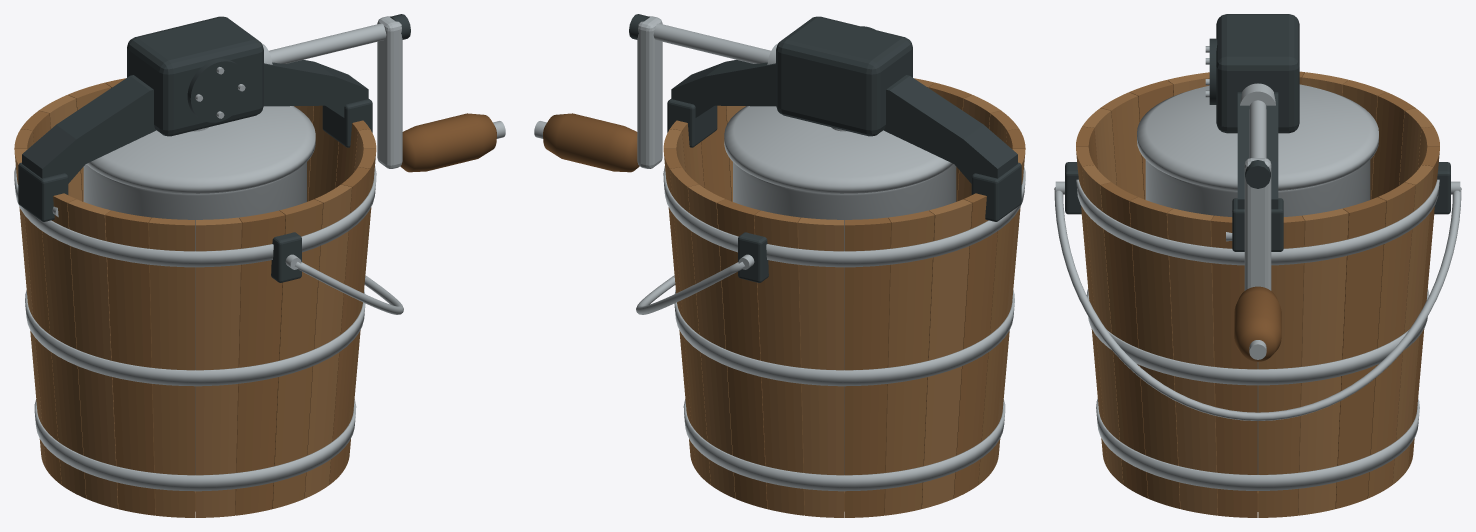
The picture shows the model from 3 angles, left to right: view 1: azimuth 30°, elevation 25°; view 2: azimuth 150°, elevation 25°; view 3: azimuth 270°, elevation 25°; orthographic projection.
Parts seen in each view (by area): view 1: Removable canister lid exterior, One-piece arched gear bridge, Closed wooden bucket stave 15, Closed wooden bucket stave 16, Closed wooden bucket stave 14, Closed wooden bucket stave 17, Closed generic gear housing, Closed wooden bucket stave 13, Closed wooden bucket stave 18, Closed inner freezer canister, Closed wooden bucket stave 19, Closed wooden bucket stave 12 (+20 smaller); view 2: Removable canister lid exterior, Closed generic gear housing, One-piece arched gear bridge, Closed wooden bucket stave 7, Closed wooden bucket stave 8, Closed wooden bucket stave 9, Closed wooden bucket stave 6, Closed wooden bucket stave 10, Closed wooden bucket stave 5, Closed inner freezer canister, Closed wooden bucket stave 4, Closed wooden bucket stave 11 (+19 smaller); view 3: Removable canister lid exterior, Closed wooden bucket stave 1, Closed wooden bucket stave 22, Closed wooden bucket stave 2, Closed wooden bucket stave 21, Closed wooden bucket stave 0, Closed wooden bucket stave 23, Closed generic gear housing, Closed wooden bucket stave 20, Closed wooden bucket stave 3, Lowered outward carry bail, Closed inner freezer canister (+27 smaller).
Boxes of the visible parts, x1,y1,x2,y2 form: Removable canister lid exterior: [86, 106, 315, 193]; One-piece arched gear bridge: [22, 60, 368, 183]; Closed wooden bucket stave 15: [149, 217, 195, 517]; Closed wooden bucket stave 16: [195, 217, 241, 517]; Closed wooden bucket stave 14: [105, 210, 155, 515]; Closed wooden bucket stave 17: [235, 210, 285, 515]; Closed generic gear housing: [127, 16, 263, 136]; Closed wooden bucket stave 13: [67, 199, 118, 508]; Closed wooden bucket stave 18: [272, 199, 322, 508]; Closed inner freezer canister: [83, 162, 306, 474]; Closed wooden bucket stave 19: [304, 184, 351, 498]; Closed wooden bucket stave 12: [42, 193, 86, 498]; Removable canister lid exterior: [724, 106, 953, 193]; Closed generic gear housing: [776, 16, 912, 136]; One-piece arched gear bridge: [671, 60, 1017, 183]; Closed wooden bucket stave 7: [798, 217, 844, 517]; Closed wooden bucket stave 8: [844, 217, 890, 517]; Closed wooden bucket stave 9: [884, 210, 934, 515]; Closed wooden bucket stave 6: [754, 210, 804, 515]; Closed wooden bucket stave 10: [921, 199, 972, 508]; Closed wooden bucket stave 5: [717, 199, 767, 508]; Closed inner freezer canister: [733, 162, 956, 474]; Closed wooden bucket stave 4: [688, 184, 735, 498]; Closed wooden bucket stave 11: [953, 193, 997, 498]; Removable canister lid exterior: [1137, 84, 1378, 190]; Closed wooden bucket stave 1: [1298, 208, 1348, 515]; Closed wooden bucket stave 22: [1167, 208, 1217, 515]; Closed wooden bucket stave 2: [1335, 197, 1386, 508]; Closed wooden bucket stave 21: [1129, 197, 1180, 508]; Closed wooden bucket stave 0: [1258, 215, 1304, 517]; Closed wooden bucket stave 23: [1211, 215, 1257, 517]; Closed generic gear housing: [1216, 14, 1299, 133]; Closed wooden bucket stave 20: [1100, 182, 1148, 498]; Closed wooden bucket stave 3: [1367, 182, 1415, 498]; Lowered outward carry bail: [1054, 187, 1461, 420]; Closed inner freezer canister: [1145, 160, 1370, 474].
Bounding box in the file's own units: 51.15 × 42.9 × 38.
